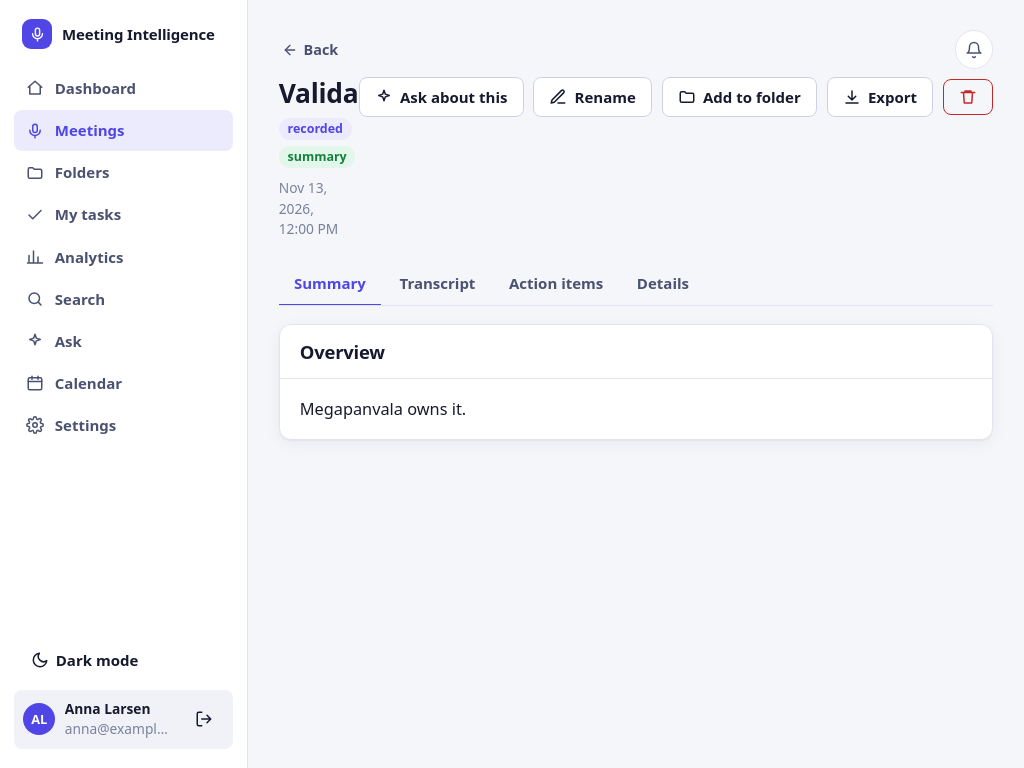
Test: correcting the transcript › shows the server’s reason when saving fails, and keeps the editor open
Click the tab "Transcript" at (437, 284), box [384,262,491,306]
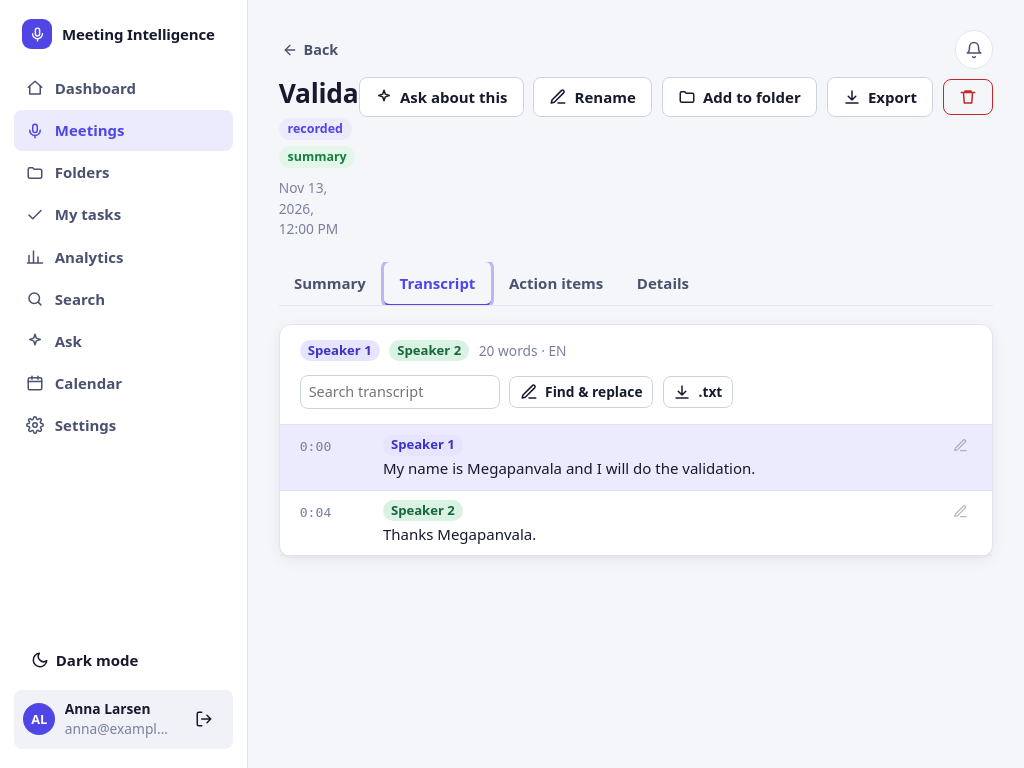
Check: the text "My name is Megapanvala and I will do the validation." is shown, box [383,458,755,478]
Click the button named "Edit 0:00" at (961, 446), box [949,434,972,457]
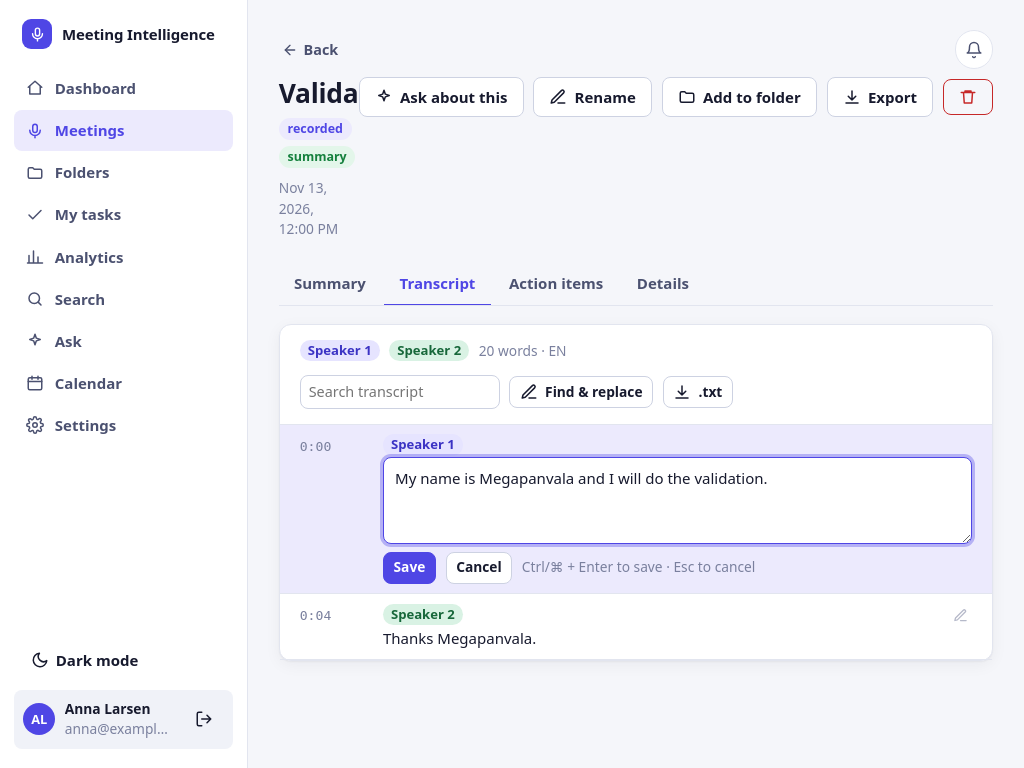
Type " more" into the text box named "Transcript text" at (678, 501), box [383,457,972,544]
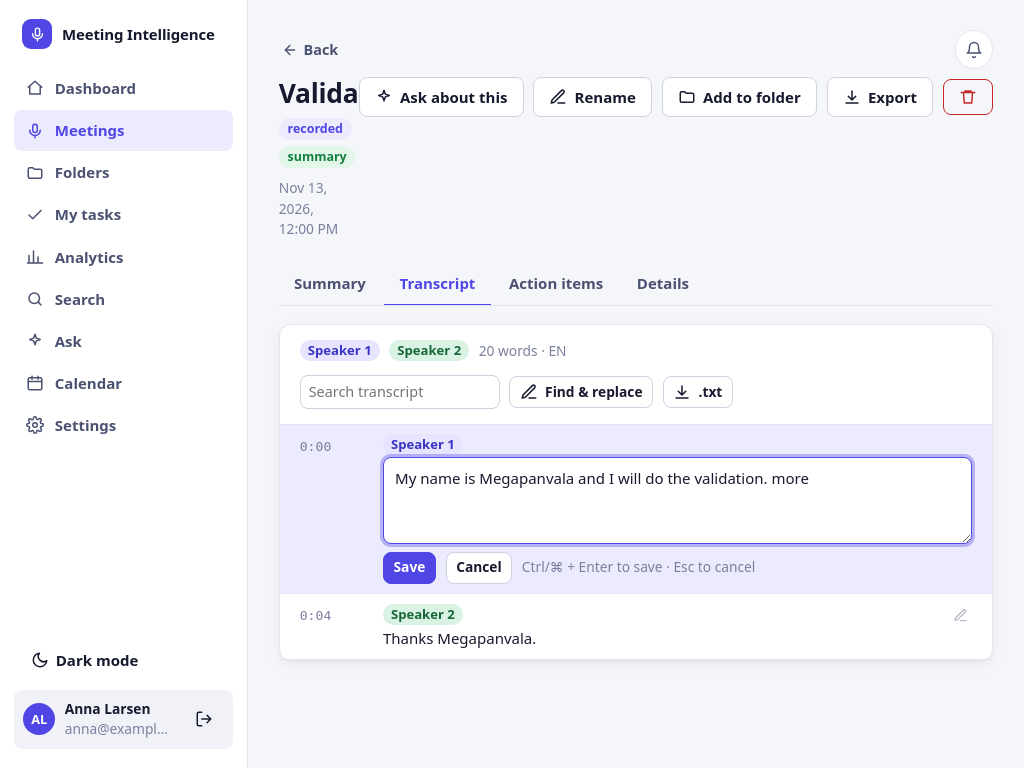
Click the button "Save" at (409, 568), box [383,552,436,584]
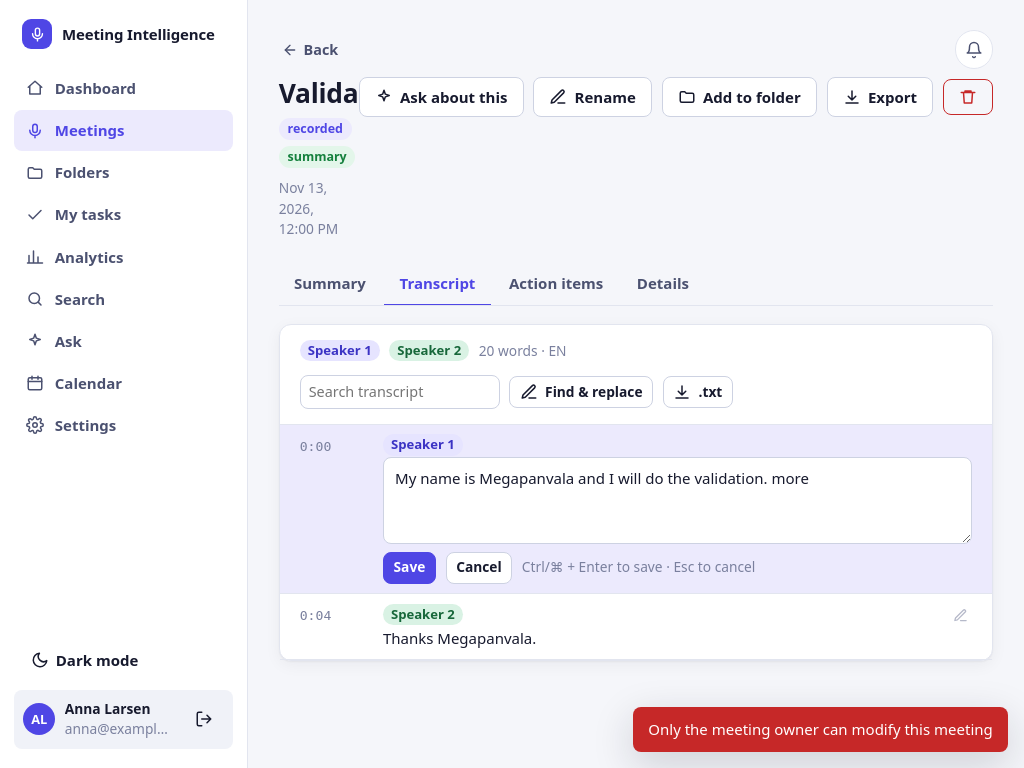
Check: the text box named "Transcript text" is shown, box [383,457,972,544]
Check: the text "Only the meeting owner can modify this meeting" is shown, box [633,707,1008,752]
